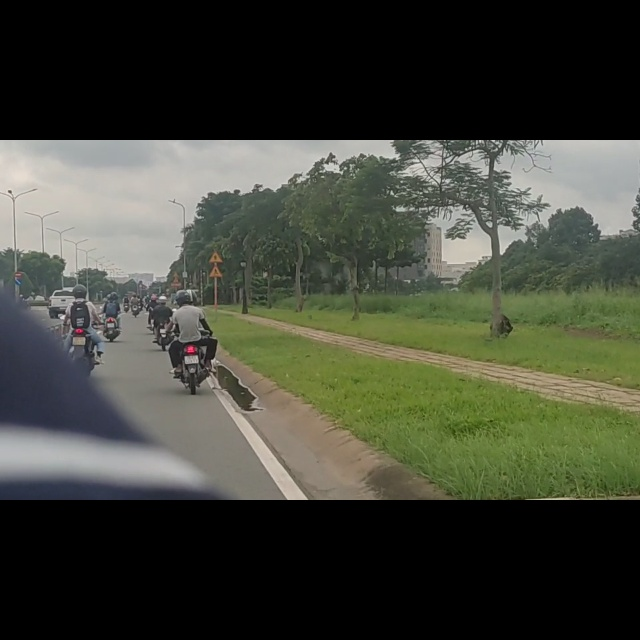bien_nguy_hiem: (208, 222, 223, 244), (209, 197, 223, 219), (14, 232, 23, 245), (14, 245, 22, 258)
